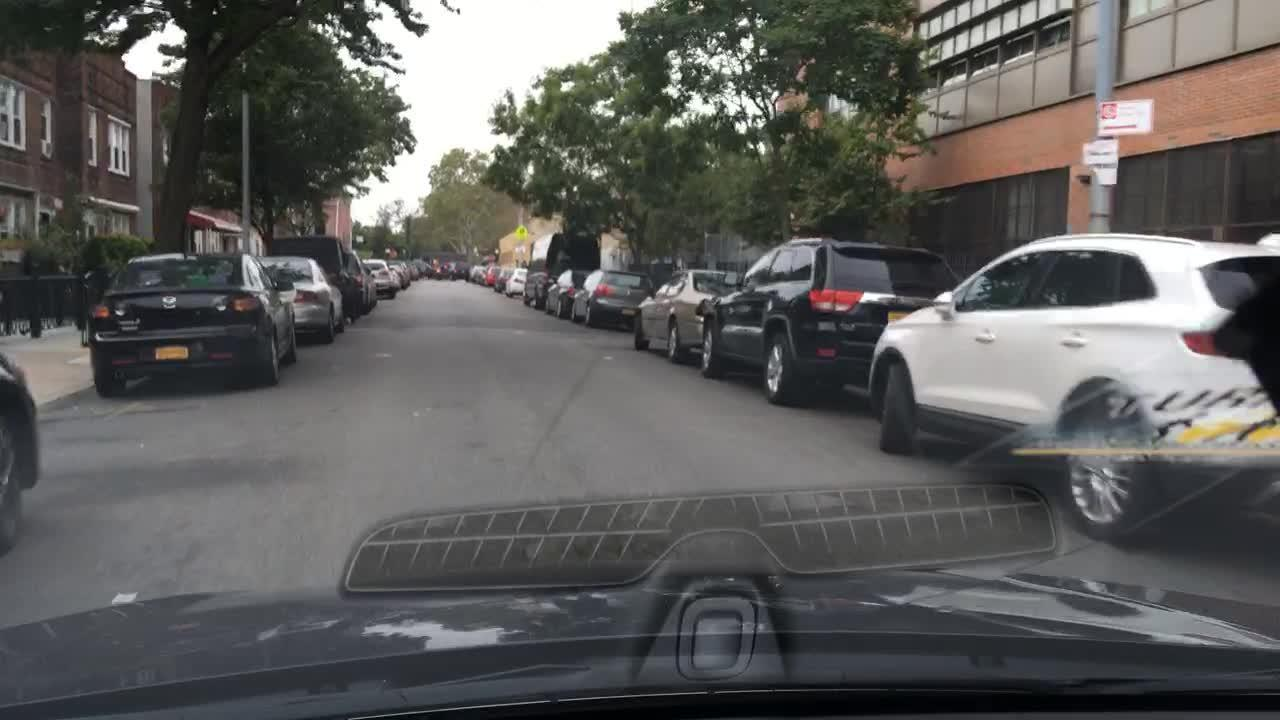Mazda: (161, 293, 177, 311)
